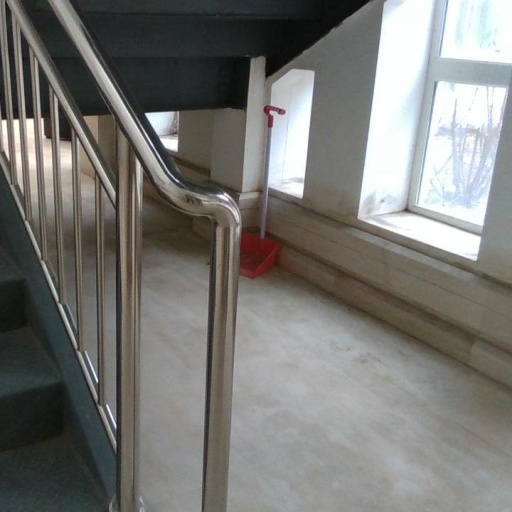Stairs: (0, 170, 116, 512)
